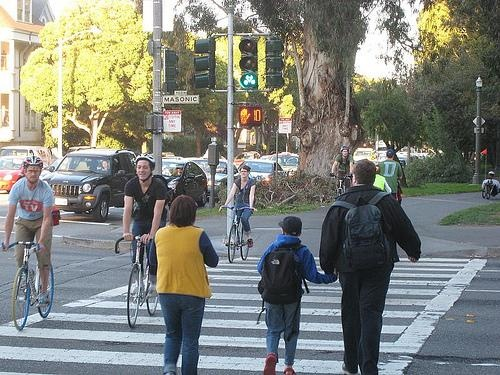person: (260, 215, 336, 373), (150, 194, 216, 375), (3, 155, 60, 310), (123, 151, 170, 283), (222, 166, 261, 247), (375, 150, 406, 206), (331, 144, 356, 190)
